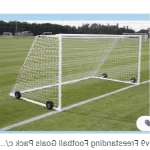goals: (9, 31, 143, 112)
